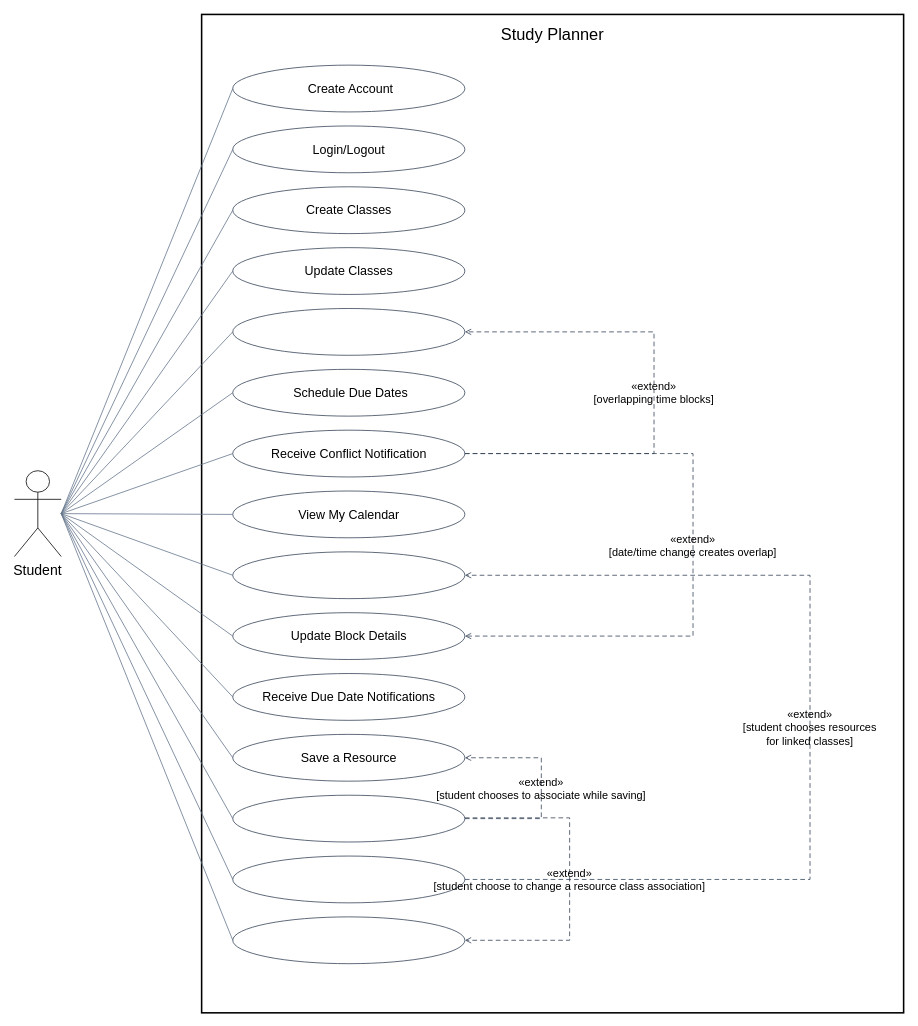
Image size: 918x1026. Some labels were removed from this diagram. The centre of each missing label's shape, as x and y in pixels:
Access Resources from Calendar Block: point 348,879
Associate Resources with Classes: point 348,818
Schedule Time Blocks: point 348,331
Update Resource List: point 348,940
View Block Details: point 348,575
